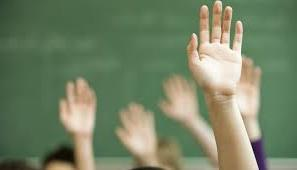Hand-Raised: (188, 0, 243, 95), (56, 76, 99, 140), (113, 103, 158, 159), (154, 71, 200, 121)
